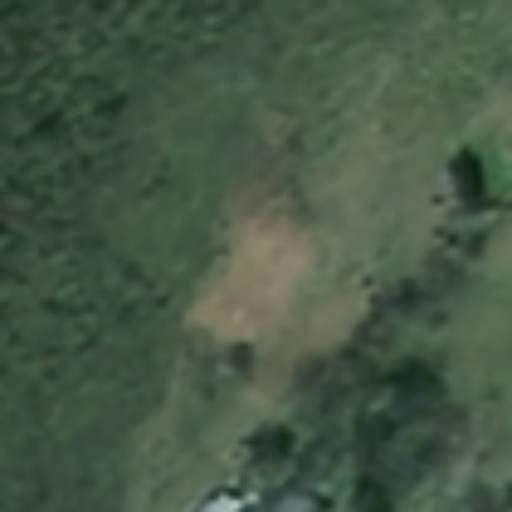landslide: (173, 193, 331, 347)
